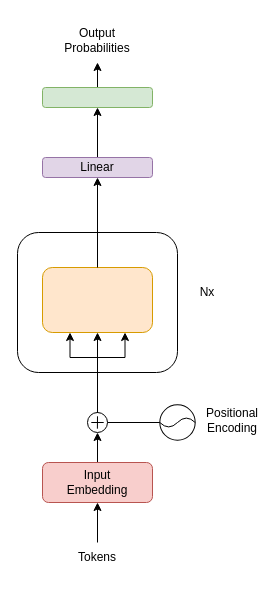
The diagram is 280 pixels wide and 589 high, and some of its shapes have lost their labels. The centre of each missing label's shape, as x and y in pixels:
"Masked Multi-Head Attention" belongs at (x=97, y=299).
"Softmax" belongs at (x=97, y=97).
